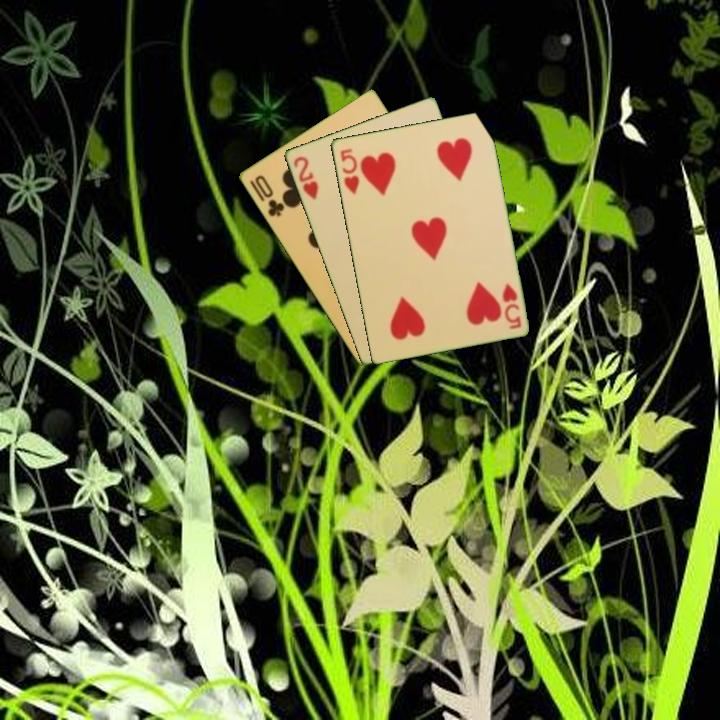10c: (251, 171, 287, 220)
2h: (289, 153, 321, 202)
5h: (498, 279, 524, 332), (337, 145, 362, 197)
